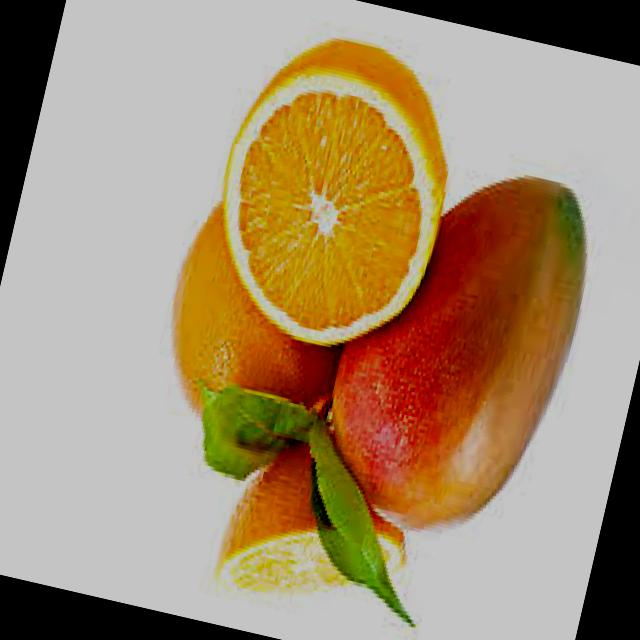Mango: (306, 145, 607, 552)
Orange: (187, 22, 475, 368), (146, 205, 365, 455), (206, 433, 424, 634)
